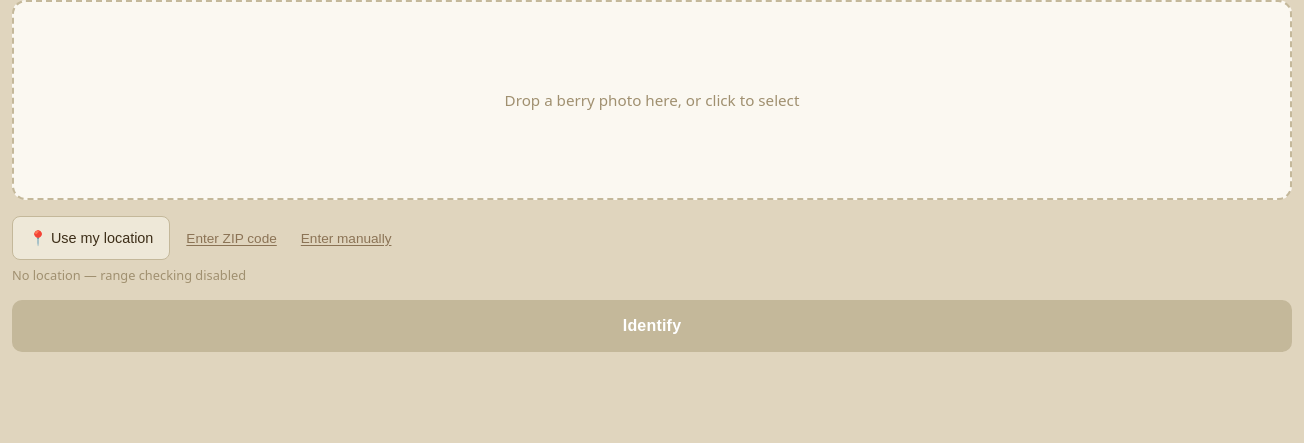
Test: ZIP code entry › shows an error when geocoding fails
This screenshot has width=1304, height=443.
Click the button "Enter ZIP code": (232, 238) [178, 216, 285, 260]
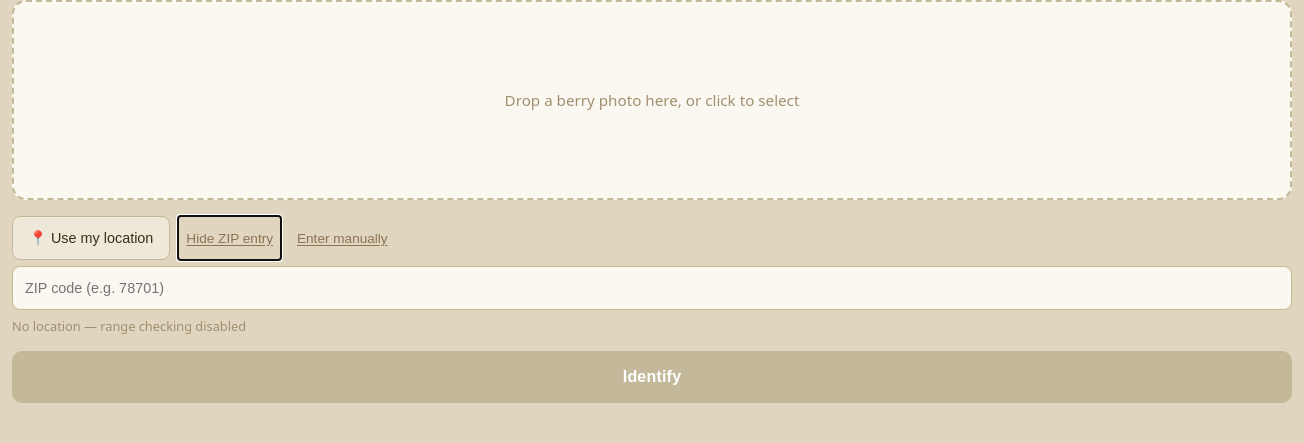
In the field labelled "ZIP code (e.g. 78701)": (652, 288) [12, 266, 1292, 310], type "78701"
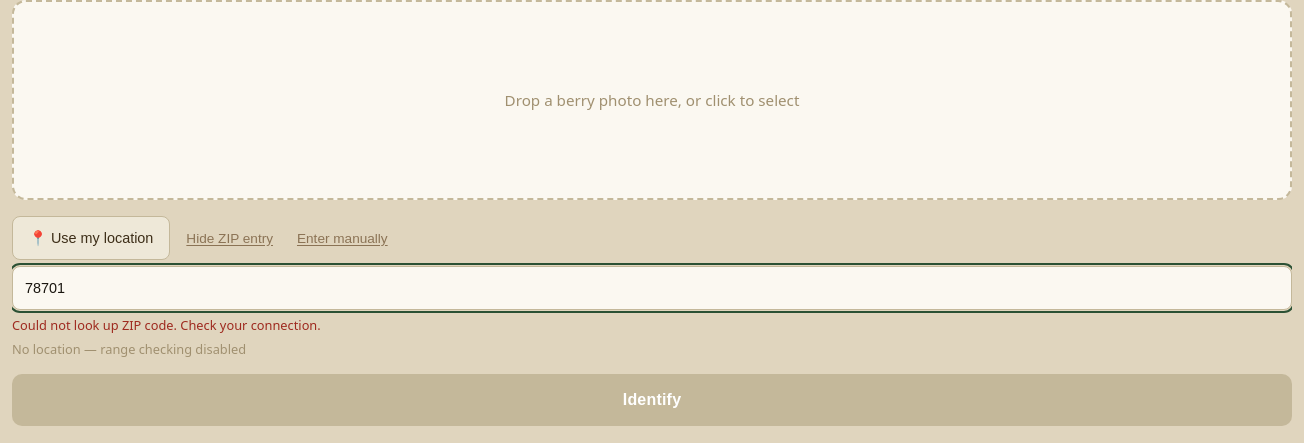
Check: the message shows "Could not look up", box [12, 316, 321, 334]
